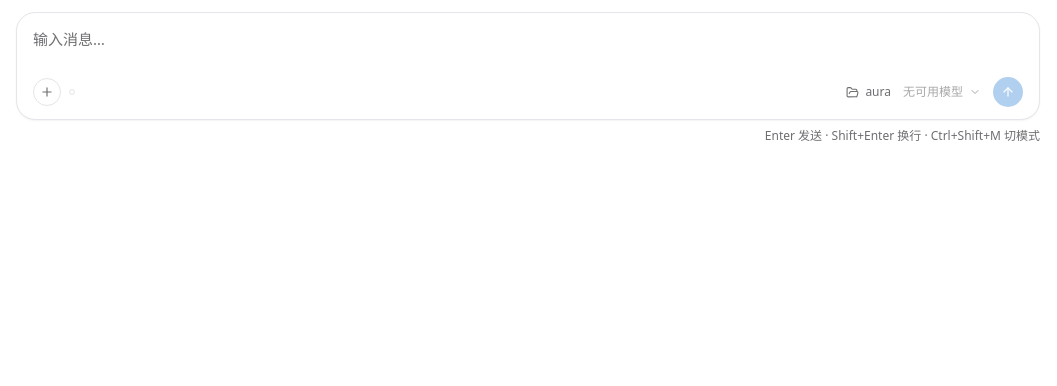
InputArea 的 @ / 触发 › 加号按钮打开与 / 相同的命令面板，且可用鼠标点选
The width and height of the screenshot is (1057, 386).
Click the button named "插入命令". click: point(47, 92)
box: [33,78,61,106]
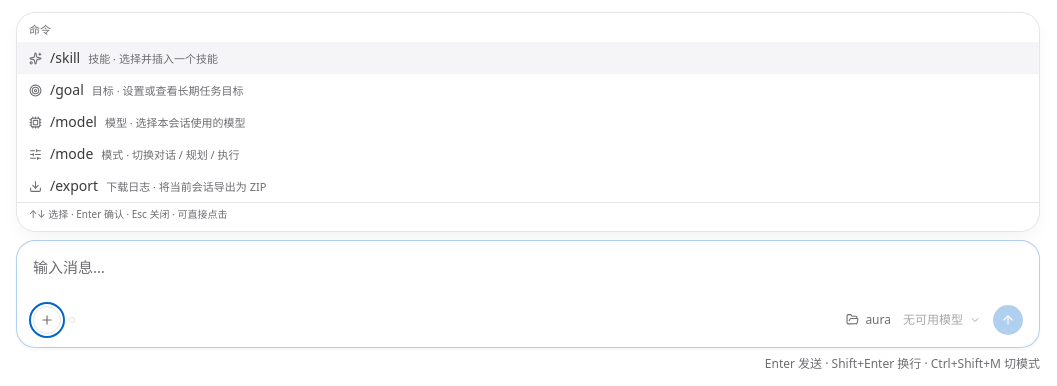
Check: the text "/goal" is shown
Click the text "/goal". click: point(67, 90)
box: [50,80,84,100]
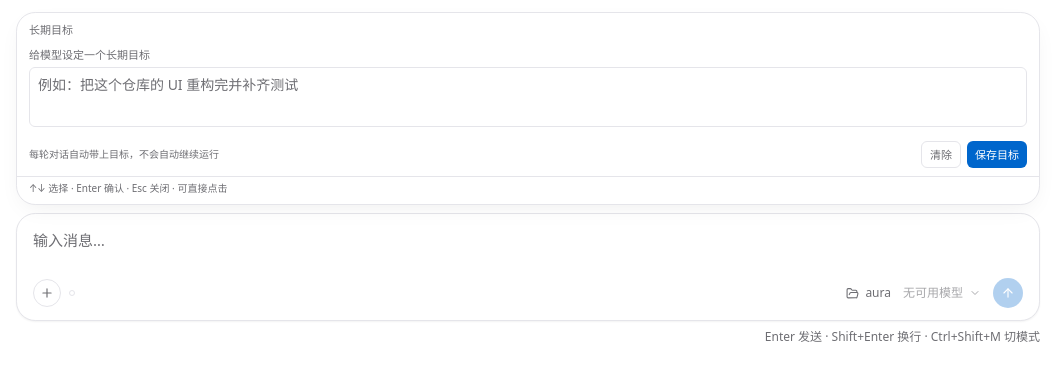
Check: the text box labelled "给模型设定一个长期目标" is shown, box [29,67,1027,127]
